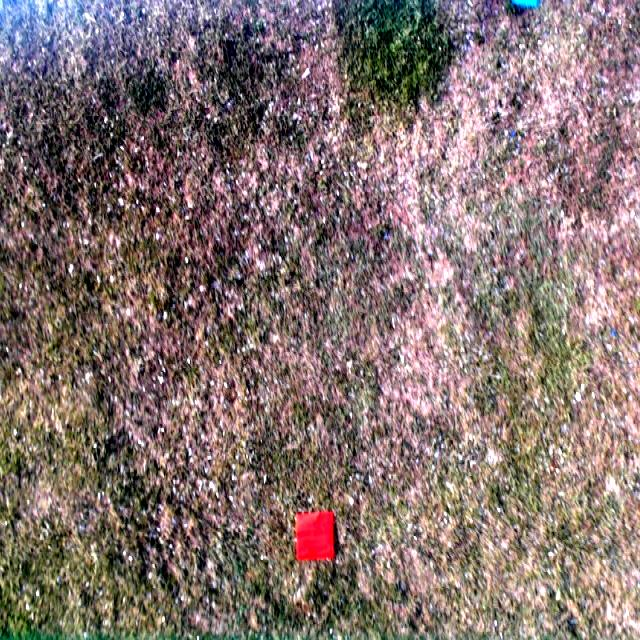red_square: (296, 514, 334, 561)
